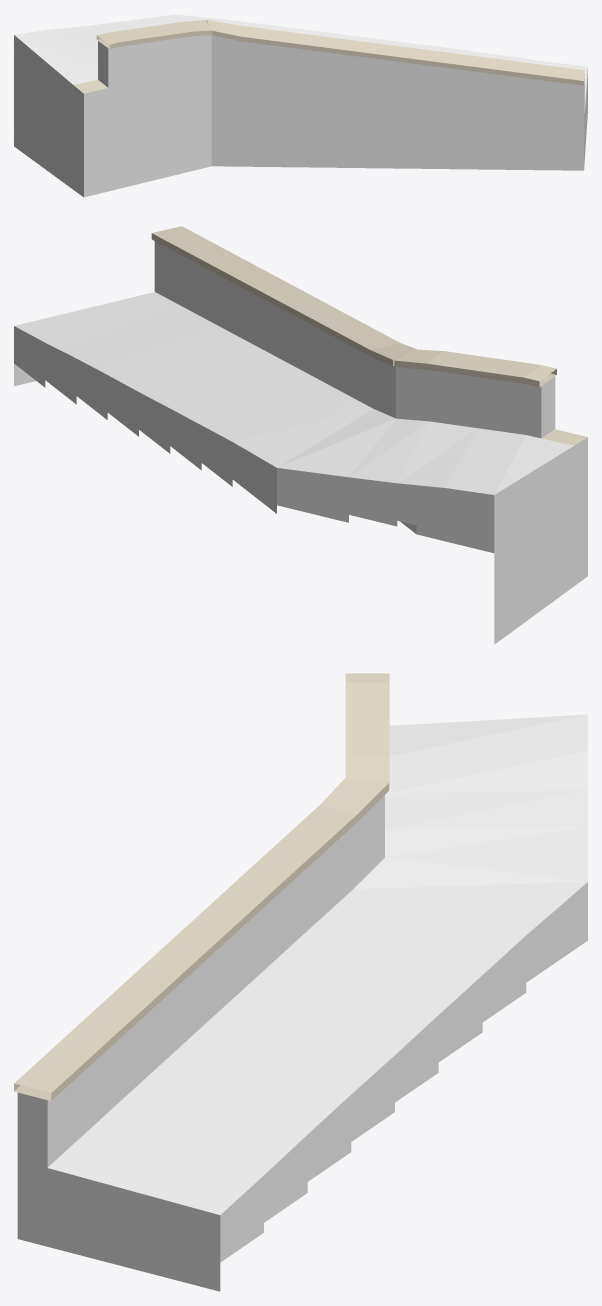
The model's file is SM_BM_BC_Works_3_4.glb.
3 views of the same model, one above another, from view 1: azimuth 30°, elevation 25°; view 2: azimuth 150°, elevation 25°; view 3: azimuth 270°, elevation 25° (orthographic). The views are drawn at different scales.
Visible parts, largest first — view 1: SM_BM_BC_Works_3_4; view 2: SM_BM_BC_Works_3_4; view 3: SM_BM_BC_Works_3_4.
Part boxes in pixels (left/top/right/bottom): SM_BM_BC_Works_3_4: left=14, top=14, right=587, bottom=197; SM_BM_BC_Works_3_4: left=14, top=226, right=587, bottom=644; SM_BM_BC_Works_3_4: left=14, top=673, right=587, bottom=1291.
Size of the model in its own units: 10.48 by 3.18 by 6.57.
